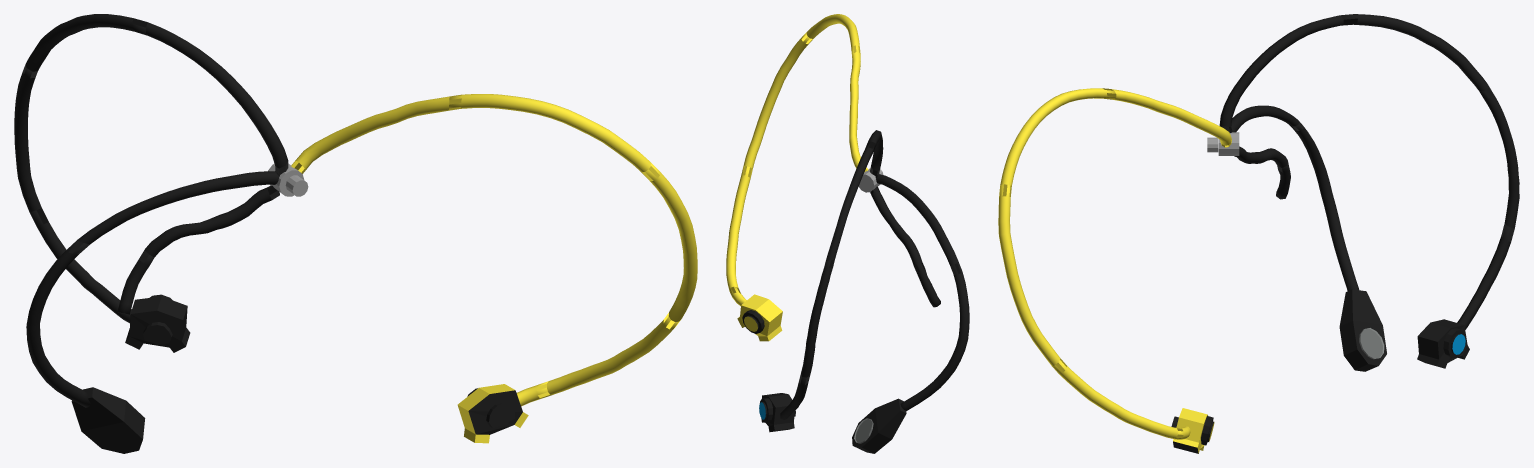
Rendered from regalt.fbx.
The picture shows the model from 3 angles, left to right: view 1: azimuth 30°, elevation 25°; view 2: azimuth 150°, elevation 25°; view 3: azimuth 270°, elevation 25°; orthographic projection. The views are drawn at different scales.
Parts seen in each view (by area): view 1: model.002; view 2: model.002; view 3: model.002.
Part boxes in pixels (<box>): model.002: <box>14,14,697,453</box>; model.002: <box>726,14,969,453</box>; model.002: <box>998,14,1519,453</box>.
Size of the model in its own units: 156 by 134 by 176.
